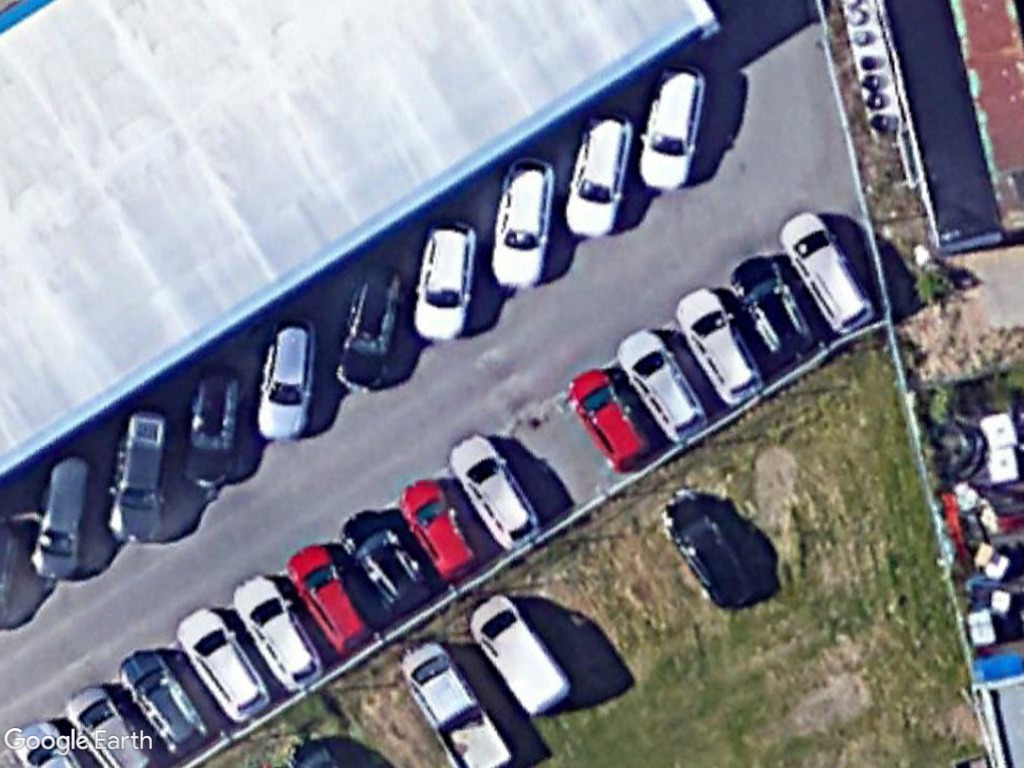car: (778, 210, 879, 337), (176, 604, 277, 729), (449, 428, 548, 554), (230, 571, 329, 694), (675, 282, 770, 408), (116, 644, 218, 758), (727, 251, 826, 368), (284, 541, 383, 658), (615, 325, 712, 442), (332, 260, 412, 399), (101, 404, 175, 549), (563, 364, 660, 474), (28, 446, 101, 590), (634, 56, 709, 193), (180, 358, 252, 499), (486, 152, 556, 295), (340, 508, 436, 612), (562, 109, 635, 244), (394, 473, 484, 582), (411, 213, 484, 346), (251, 309, 320, 446)
other: (401, 638, 516, 768)
van: (468, 593, 576, 721)
